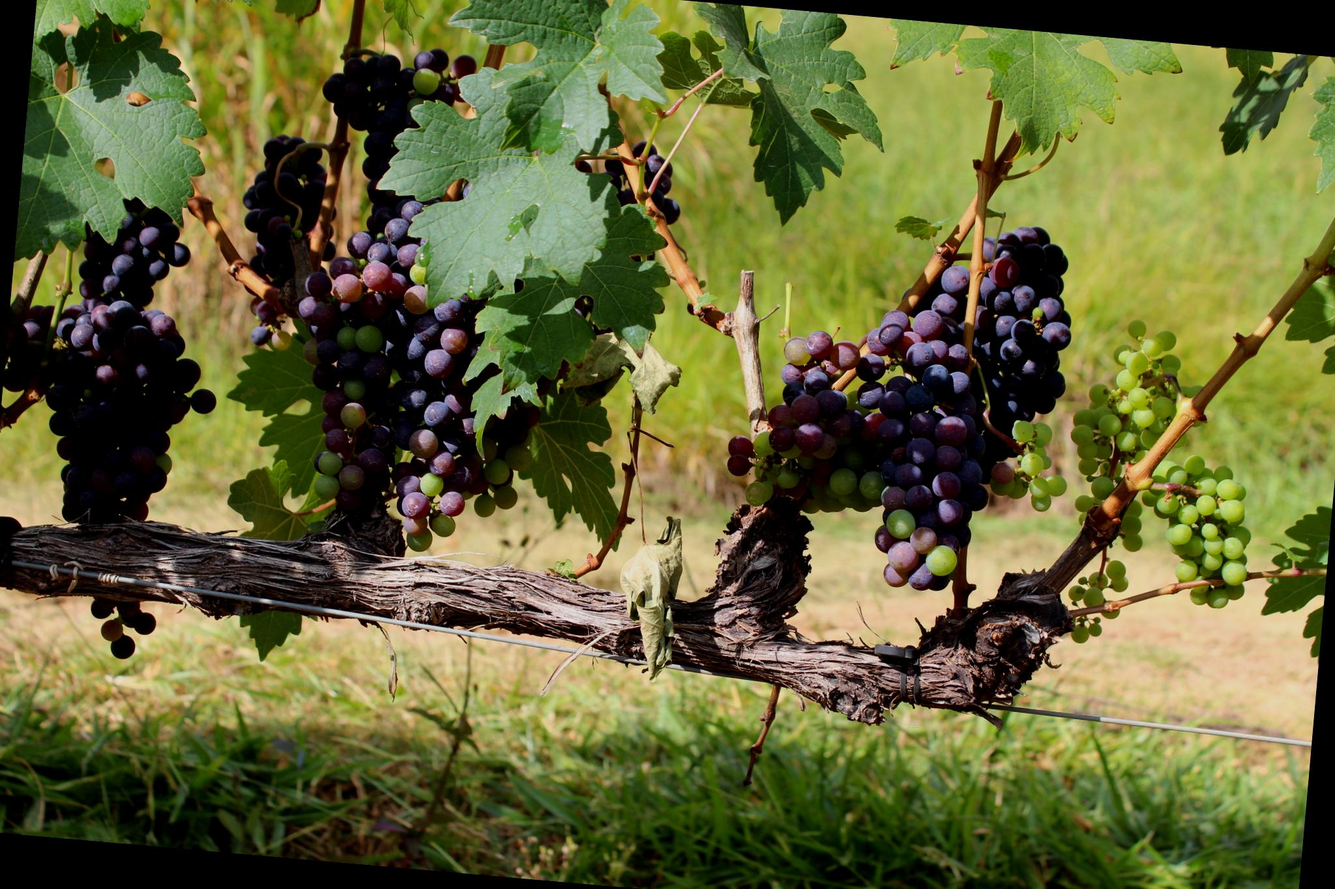Grape Ripe: (0, 285, 223, 664), (901, 215, 1080, 427), (230, 131, 330, 347), (76, 192, 195, 314)
Grape Unripe: (1061, 314, 1203, 553), (1133, 450, 1260, 611), (1064, 556, 1129, 643)
